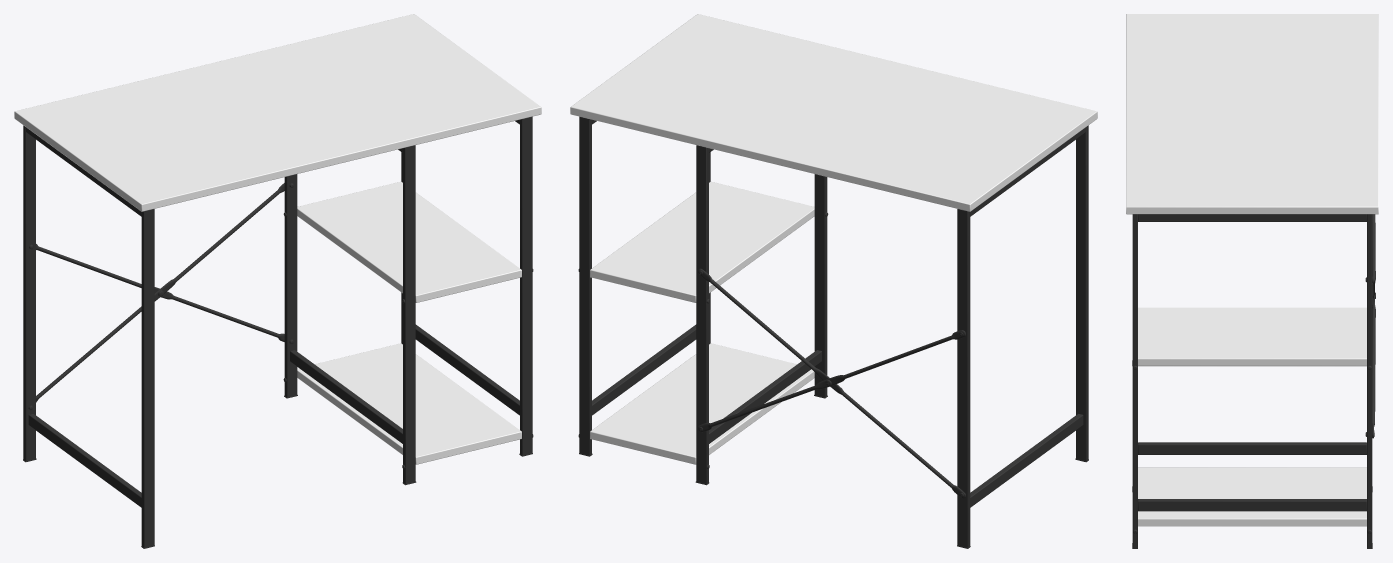
File: desk_B07PYT7NZ9.glb
3 renders of one model, left to right at view 1: azimuth 30°, elevation 25°; view 2: azimuth 150°, elevation 25°; view 3: azimuth 270°, elevation 25°, orthographic.
Parts seen in each view (by area): view 1: B07PYT7NZ9; view 2: B07PYT7NZ9; view 3: B07PYT7NZ9.
Part boxes in pixels (box(x1,y1,x2,y2)): B07PYT7NZ9: box(14, 14, 541, 548); B07PYT7NZ9: box(570, 14, 1097, 548); B07PYT7NZ9: box(1126, 14, 1378, 548).
Bounding box in the file's own units: 0.9017 × 0.7498 × 0.4978.
1 material, 1 textured.
